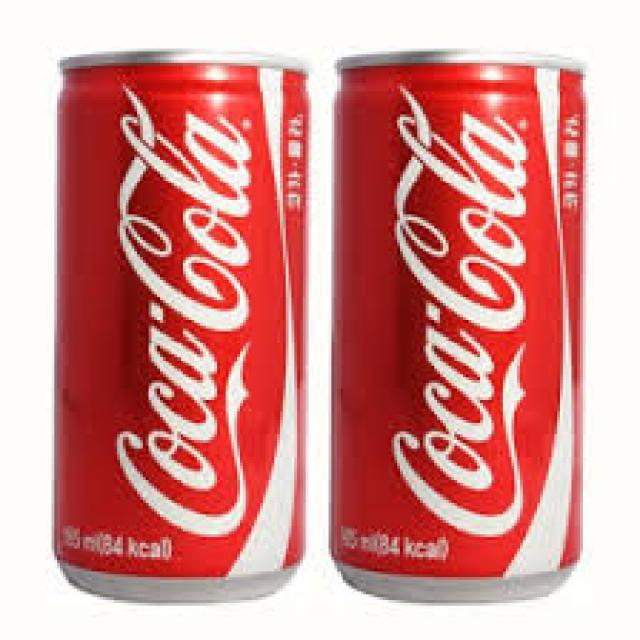Coca-Cola: (326, 38, 590, 609), (50, 39, 313, 609)
